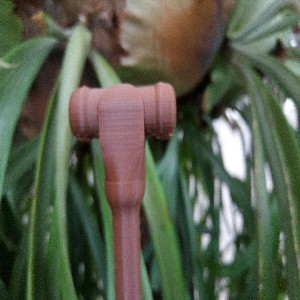palu: (69, 82, 177, 300)
